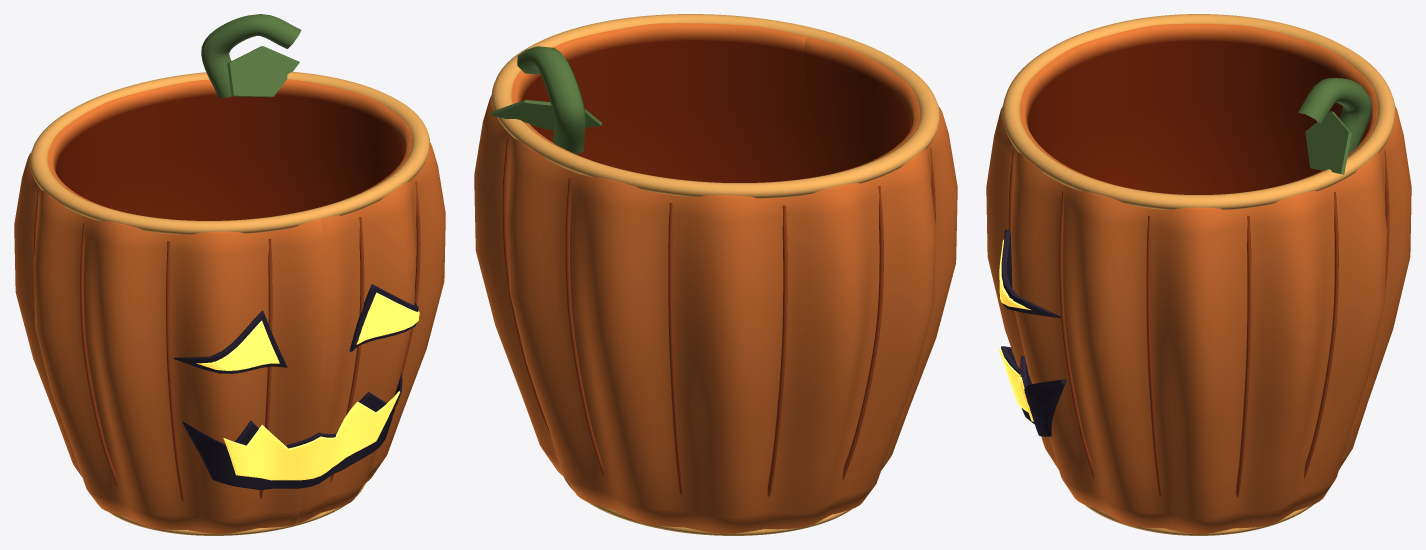
File: pumpkin.glb
The picture shows the model from 3 angles, left to right: view 1: azimuth 30°, elevation 25°; view 2: azimuth 150°, elevation 25°; view 3: azimuth 270°, elevation 25°; orthographic projection. The views are drawn at different scales.
Parts seen in each view (by area): view 1: Hollow sculpted basket, Rounded opening, Warm carved inset 2, Carved recess 2, Curled stem, Stem leaf, Warm carved inset 1, Warm carved inset 0, Carved recess 0, Pumpkin groove 9, Pumpkin groove 10, Carved recess 1 (+4 smaller); view 2: Hollow sculpted basket, Rounded opening, Curled stem, Pumpkin groove 5, Pumpkin groove 7, Pumpkin groove 6, Pumpkin groove 8, Stem leaf, Foot ring, Pumpkin groove 4; view 3: Hollow sculpted basket, Rounded opening, Curled stem, Stem leaf, Carved recess 2, Pumpkin groove 1, Pumpkin groove 4, Pumpkin groove 3, Pumpkin groove 2, Carved recess 1, Foot ring, Warm carved inset 2.
Part boxes in pixels (<box>): Hollow sculpted basket: <box>14,79,445,533</box>; Rounded opening: <box>29,72,430,234</box>; Warm carved inset 2: <box>223,391,399,480</box>; Carved recess 2: <box>182,372,402,490</box>; Curled stem: <box>201,14,301,97</box>; Stem leaf: <box>227,46,299,97</box>; Warm carved inset 1: <box>356,292,419,344</box>; Warm carved inset 0: <box>196,320,279,370</box>; Carved recess 0: <box>173,310,287,373</box>; Pumpkin groove 9: <box>80,223,117,486</box>; Pumpkin groove 10: <box>166,241,183,501</box>; Carved recess 1: <box>349,284,418,351</box>; Hollow sculpted basket: <box>474,23,957,533</box>; Rounded opening: <box>491,14,940,198</box>; Curled stem: <box>517,46,585,154</box>; Pumpkin groove 5: <box>565,178,603,474</box>; Pumpkin groove 7: <box>767,205,787,497</box>; Pumpkin groove 6: <box>668,203,682,494</box>; Pumpkin groove 8: <box>842,185,883,480</box>; Stem leaf: <box>491,99,601,130</box>; Foot ring: <box>563,476,851,535</box>; Pumpkin groove 4: <box>502,138,550,435</box>; Hollow sculpted basket: <box>986,23,1411,534</box>; Rounded opening: <box>1002,14,1395,209</box>; Curled stem: <box>1298,78,1371,154</box>; Stem leaf: <box>1305,111,1351,174</box>; Carved recess 2: <box>1001,346,1066,436</box>; Pumpkin groove 1: <box>1059,192,1094,479</box>; Pumpkin groove 4: <box>1304,192,1338,479</box>; Pumpkin groove 3: <box>1236,216,1251,497</box>; Pumpkin groove 2: <box>1146,216,1161,496</box>; Carved recess 1: <box>1001,229,1060,317</box>; Foot ring: <box>1084,504,1313,535</box>; Warm carved inset 2: <box>999,349,1033,421</box>.
Bounding box in the file's own units: 0.2012 × 0.2017 × 0.1761.
